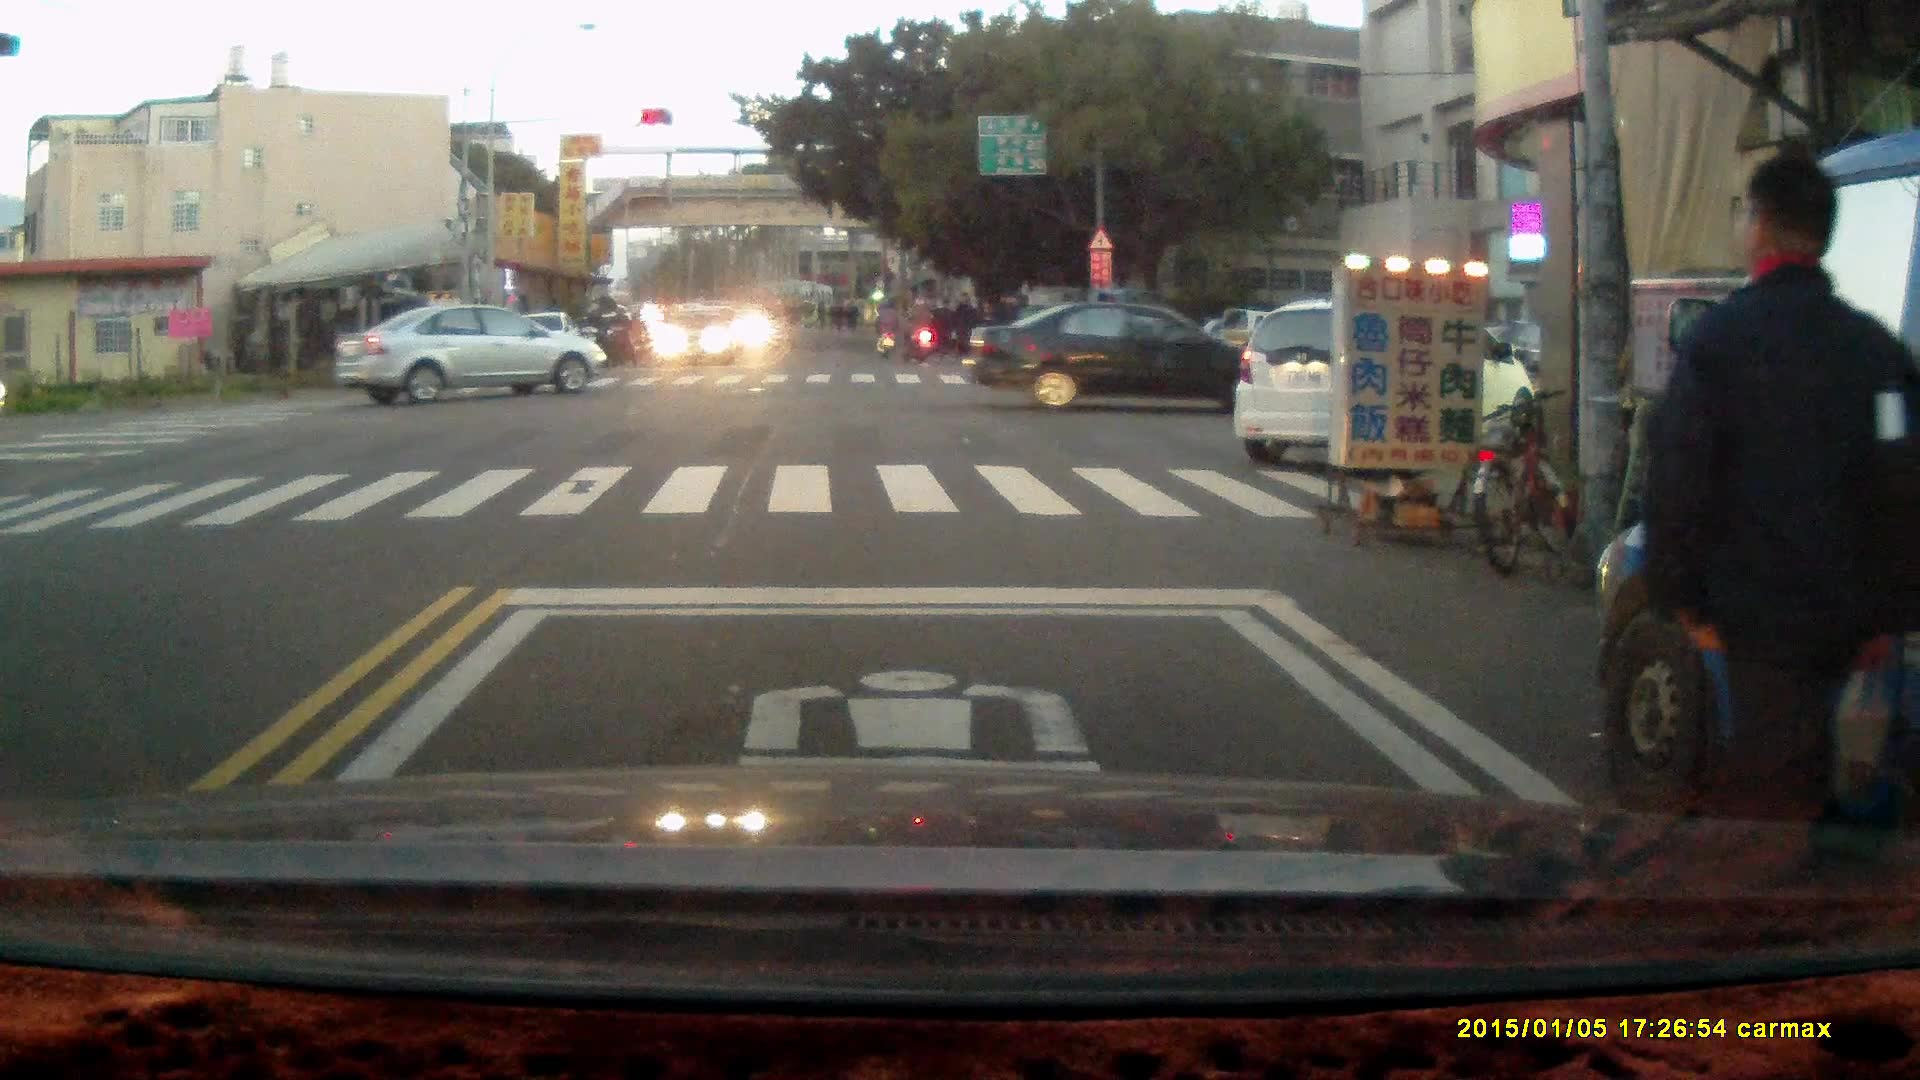pedestrian: (1645, 150, 1920, 851), (948, 289, 975, 367)
rider: (899, 296, 936, 362), (576, 301, 608, 367), (871, 295, 903, 359), (605, 301, 631, 362)
vehicle: (1598, 132, 1920, 845), (1233, 296, 1533, 459), (963, 298, 1244, 413), (338, 304, 611, 406), (1002, 284, 1179, 367)
